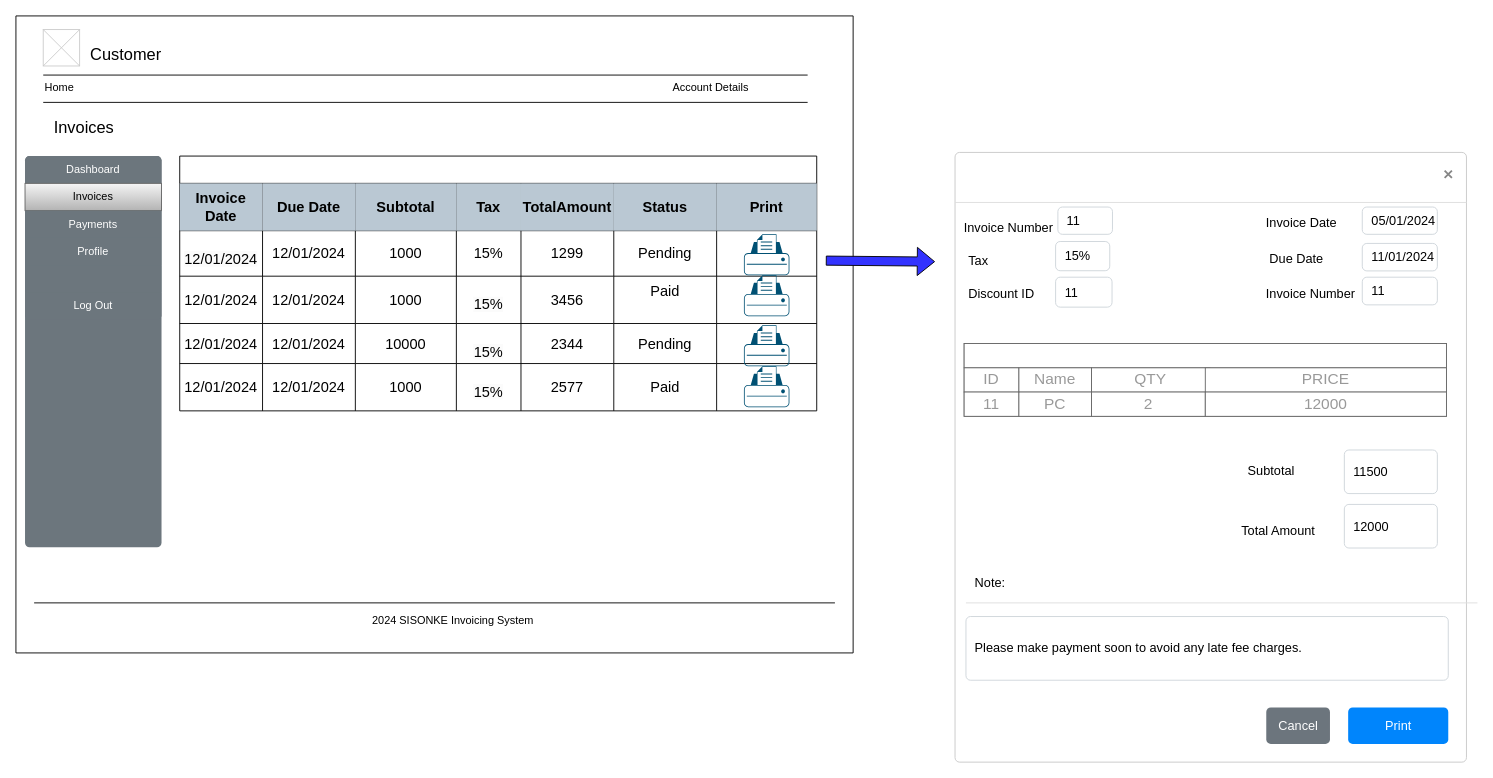
Some shapes in this 1493 by 778 pixel diagram are drawn without their labels. The box of each missing label's shape, as (x1, y1, x2, y2) in pixels:
Logo: (42, 29, 80, 66)
My Invoices: (179, 155, 817, 411)
New Invoice to @CustomerName: (954, 152, 1466, 762)
Products: (963, 343, 1446, 368)
